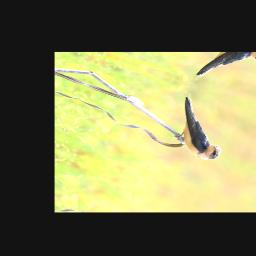Swallow: (160, 90, 243, 166)
